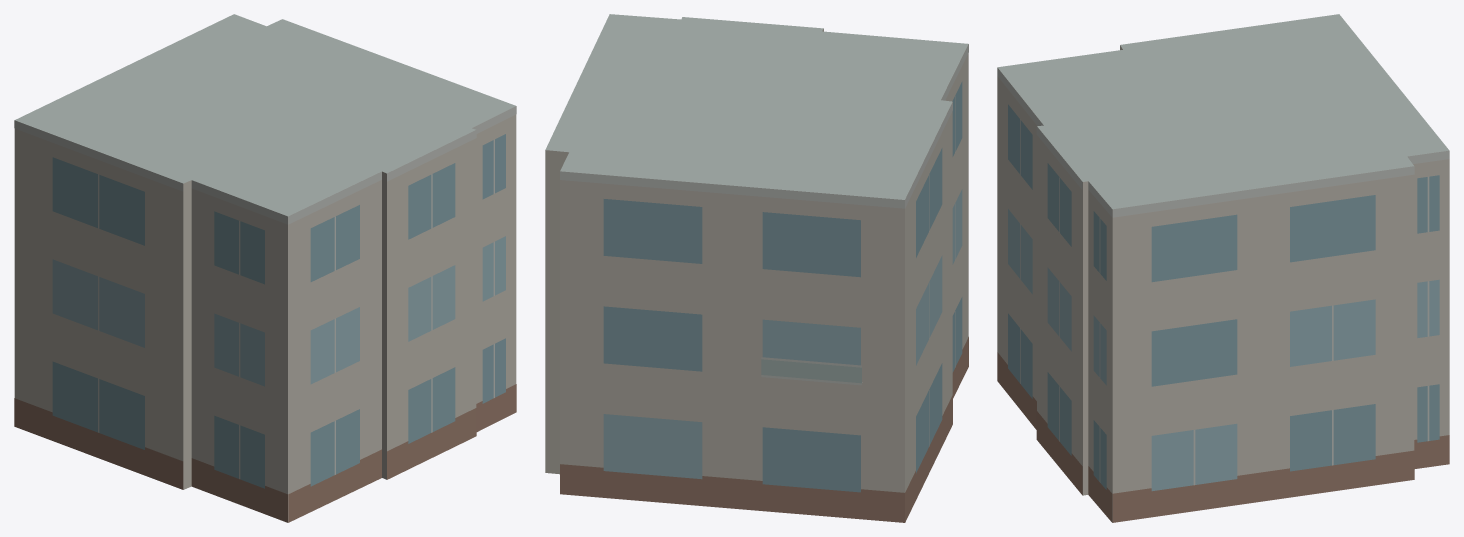
File: survey-upis-32812749.glb
The picture shows the model from 3 angles, left to right: view 1: azimuth 30°, elevation 25°; view 2: azimuth 150°, elevation 25°; view 3: azimuth 270°, elevation 25°; orthographic projection. The views are drawn at different scales.
Parts seen in each view (by area): view 1: survey-upis-32812749.tmp; view 2: survey-upis-32812749.tmp; view 3: survey-upis-32812749.tmp.
Boxes of the visible parts, <box> form: survey-upis-32812749.tmp: <box>14,14,516,522</box>; survey-upis-32812749.tmp: <box>545,14,968,522</box>; survey-upis-32812749.tmp: <box>997,14,1449,522</box>.
Size of the model in its own units: 12.1 by 9.05 by 11.84.
